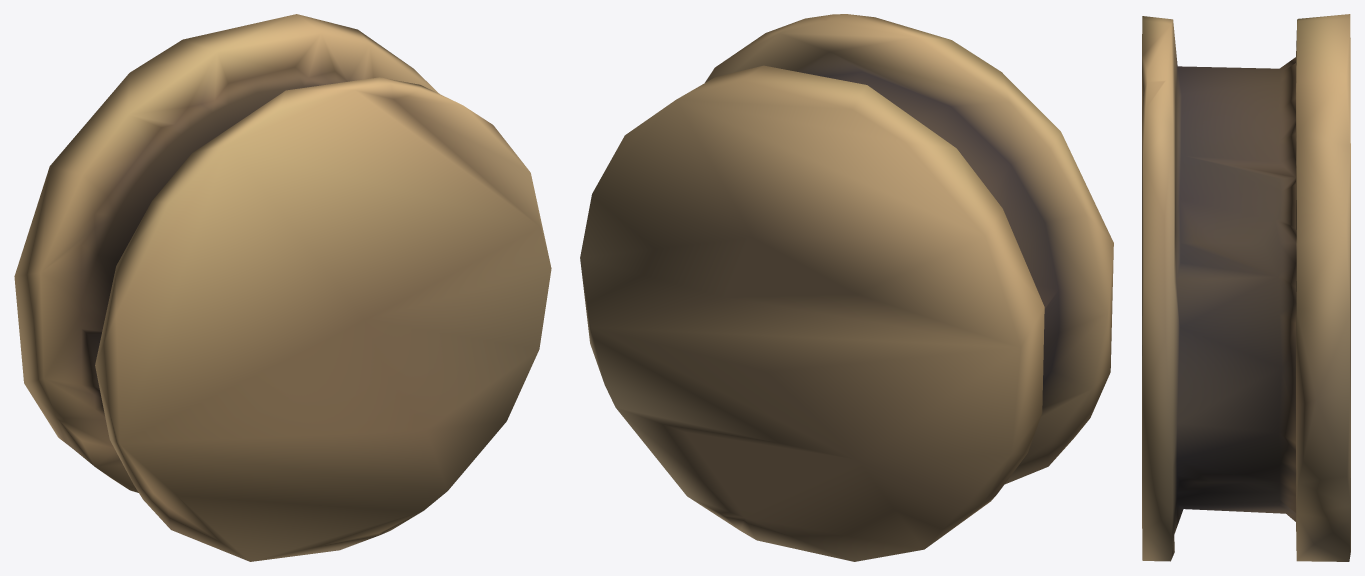
Rendered from env_p_cable.glb.
3 renders of one model, left to right at view 1: azimuth 30°, elevation 25°; view 2: azimuth 150°, elevation 25°; view 3: azimuth 270°, elevation 25°, orthographic. The views are drawn at different scales.
Parts seen in each view (by area): view 1: geometry_0; view 2: geometry_0; view 3: geometry_0.
Boxes of the visible parts, box(x1,y1,x2,y2) form: geometry_0: box(14, 14, 551, 561); geometry_0: box(580, 14, 1113, 561); geometry_0: box(1142, 14, 1350, 561).
Size of the model in its own units: 1.01 by 1 by 0.38.
